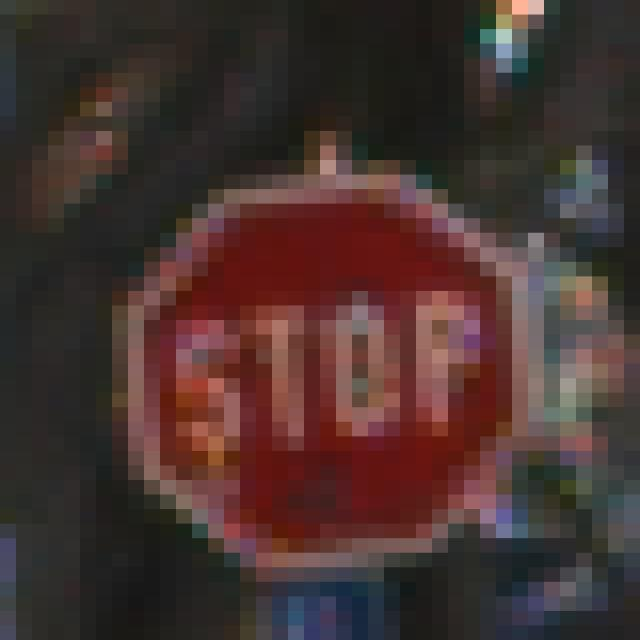STOP: (81, 89, 545, 569)
